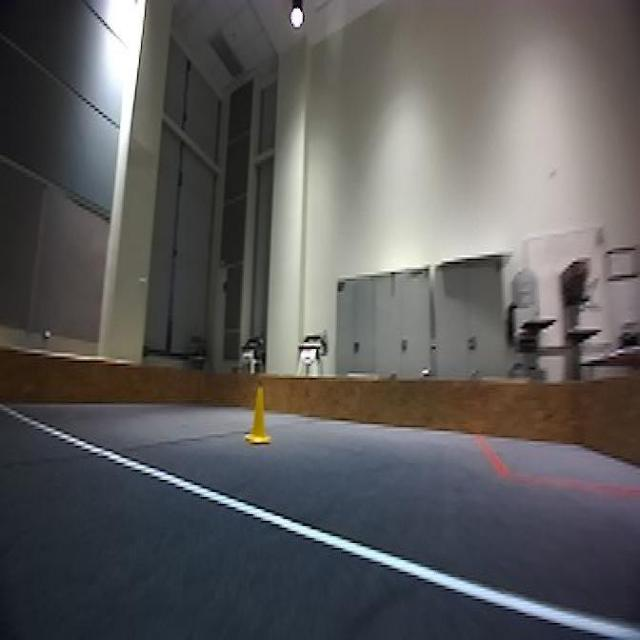frc_cone: (246, 388, 273, 449)
